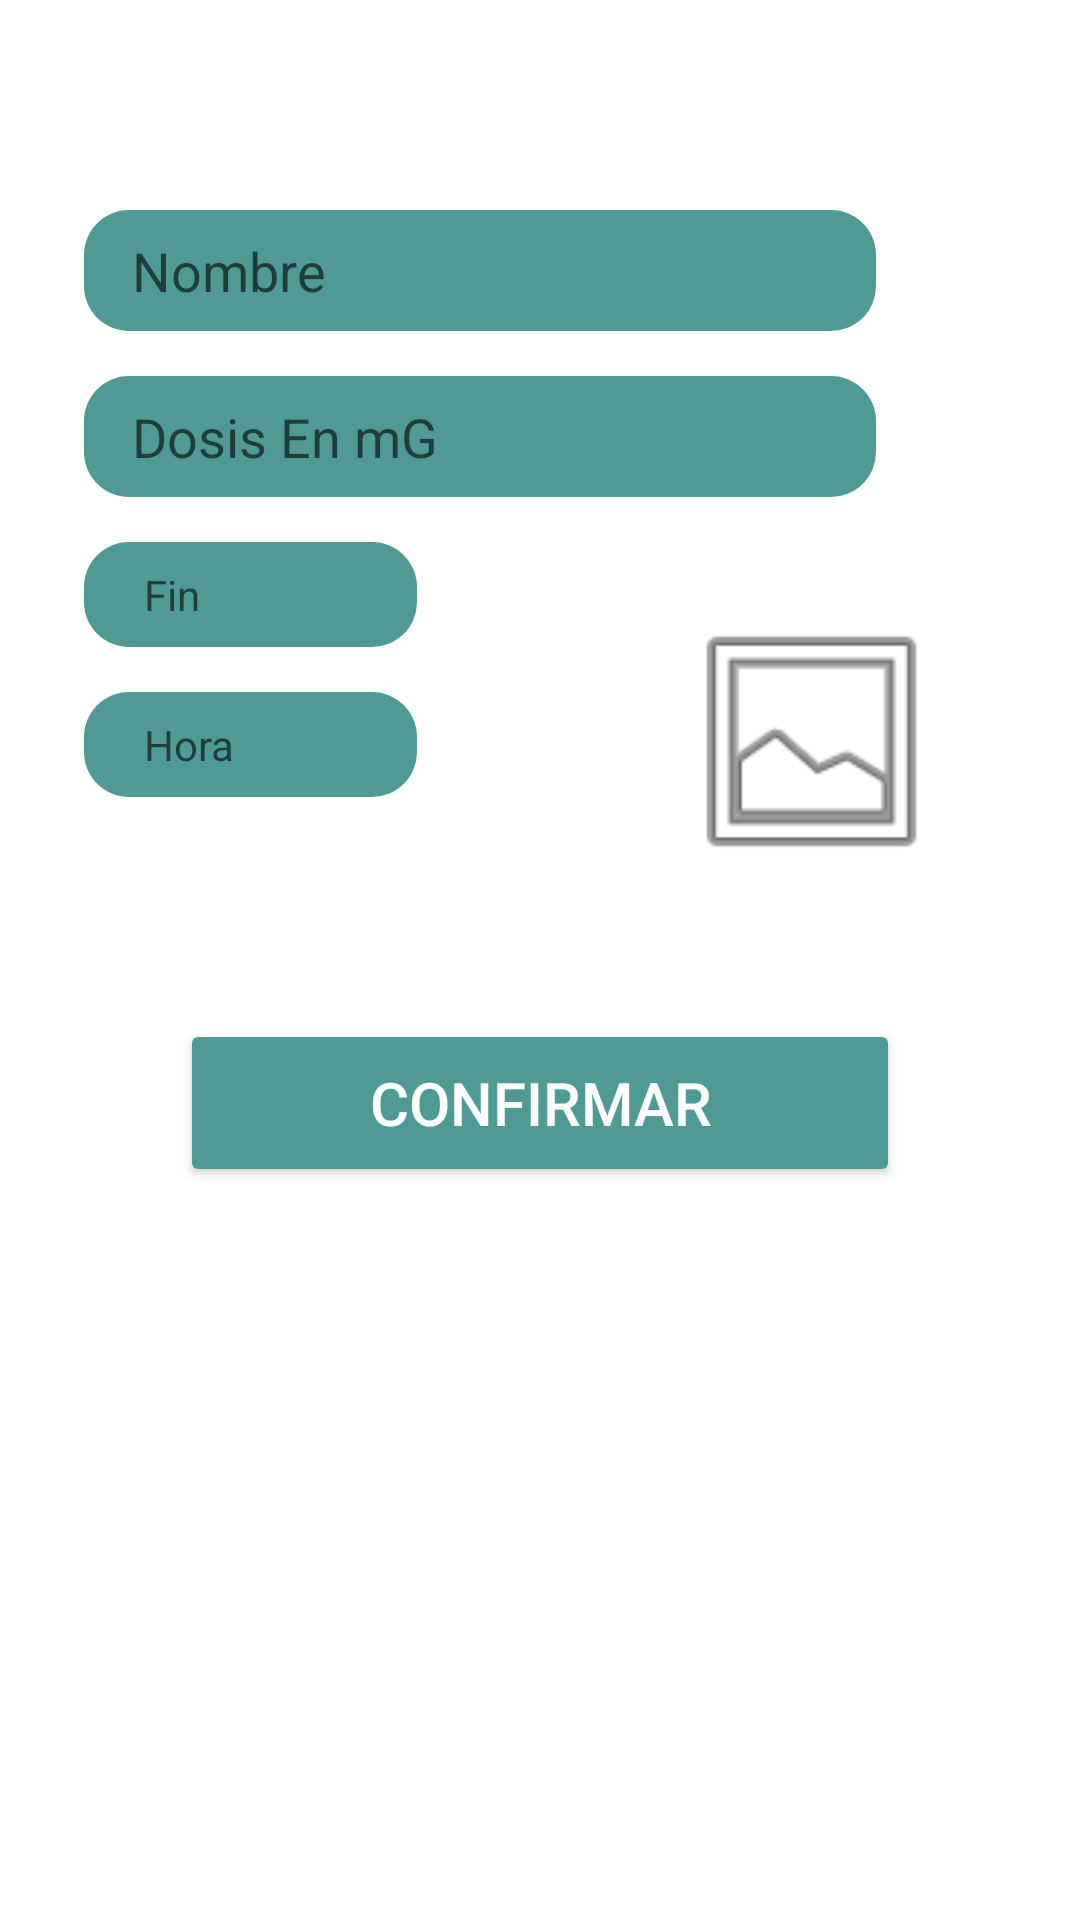

Screen size 1080 x 1920. Icon name, then its box in pixels as [left=x1, top=y1, right=x2, bottom=y2]:
gallery: [left=706, top=636, right=917, bottom=847]
